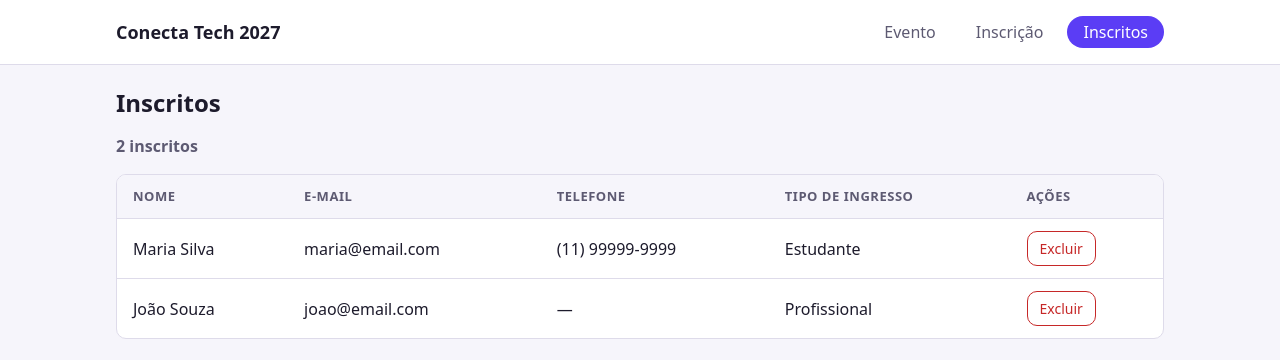
tela de inscritos › exclusão › REQ-FE-27: se a API responder 404, remove a linha e avisa que ela já tinha sido excluída
Step 1. Click the button "Excluir" in the row of "João Souza" → [1061, 309], box x1=1026 y1=291 x2=1096 y2=326
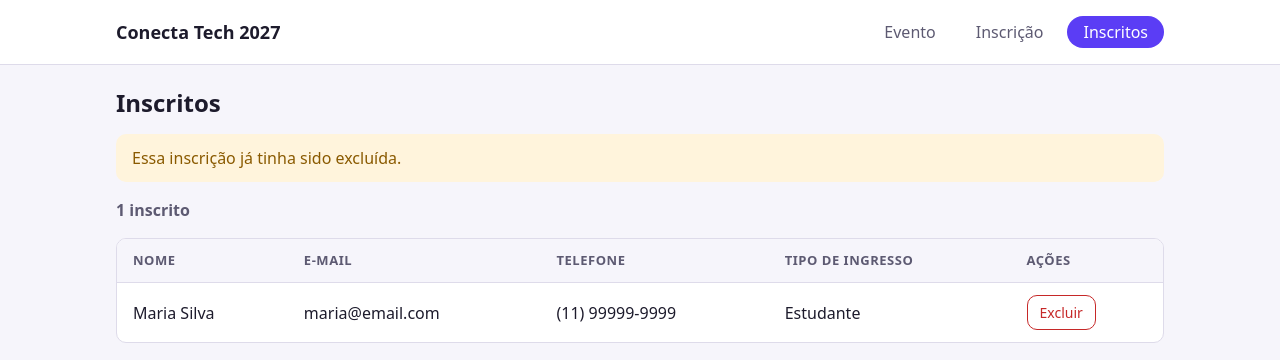
Result: the message reads "Essa inscrição já tinha sido excluída." at x1=132 y1=147 x2=401 y2=169
Result: the text "1 inscrito" is shown at x1=116 y1=199 x2=190 y2=221
